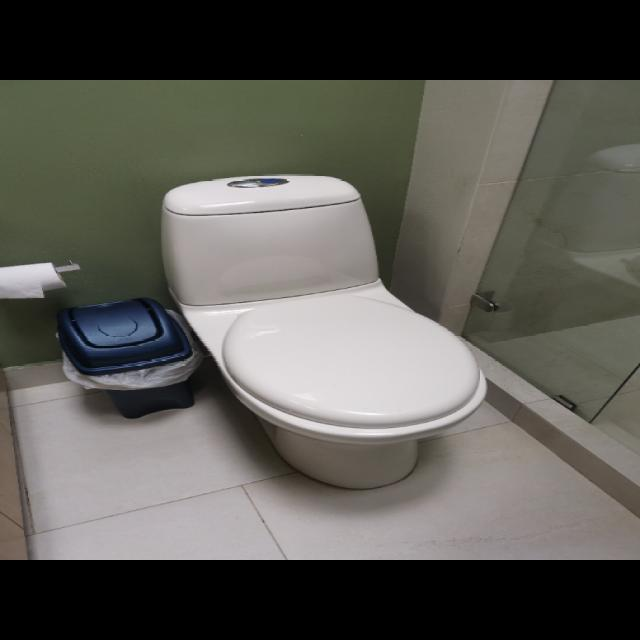toilet: (158, 173, 488, 489)
